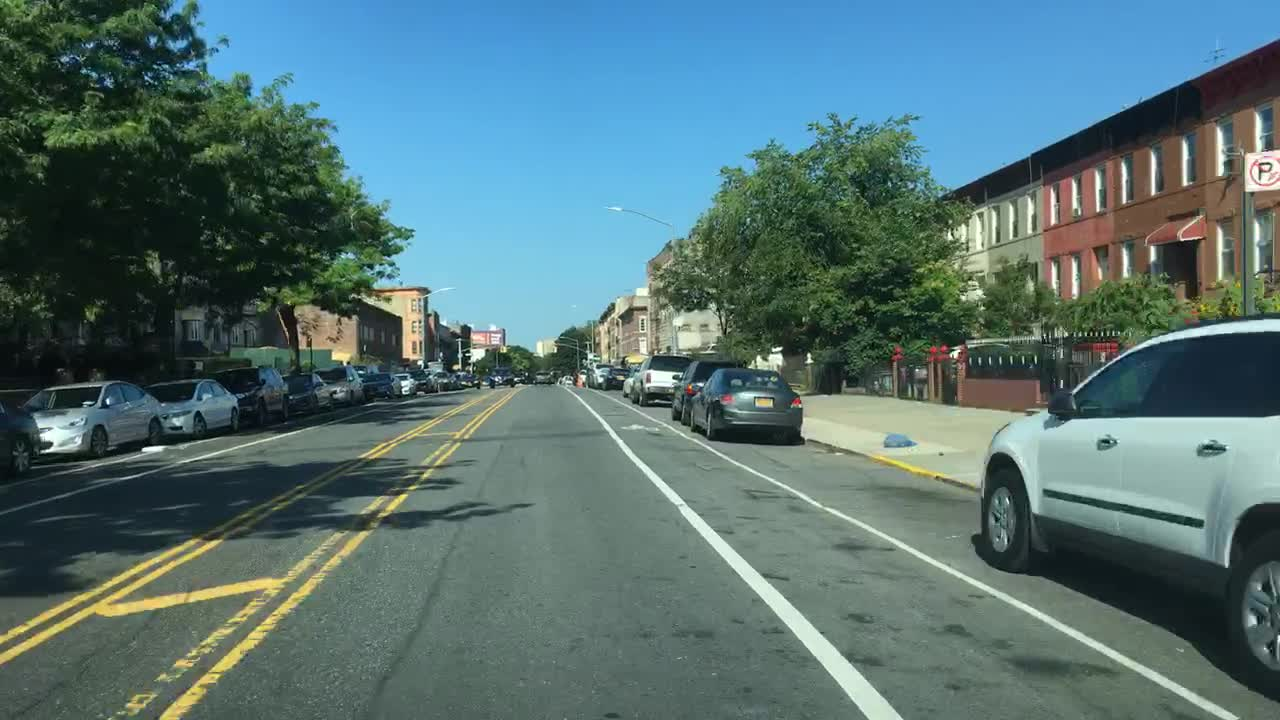car: (980, 312, 1279, 687), (21, 377, 163, 460), (690, 366, 804, 442), (143, 376, 241, 438), (205, 364, 288, 425), (668, 357, 744, 421), (0, 389, 42, 477), (632, 352, 693, 406), (280, 369, 329, 413), (308, 366, 362, 404), (362, 371, 398, 398), (588, 361, 610, 388), (602, 367, 629, 388), (393, 372, 416, 394), (491, 367, 514, 388), (430, 371, 452, 391), (413, 367, 430, 391), (622, 367, 637, 394), (534, 369, 551, 388), (464, 374, 482, 388), (575, 369, 587, 389), (556, 374, 572, 388), (452, 371, 465, 388), (514, 371, 528, 384), (479, 374, 489, 389)
traffic sign: (1245, 151, 1279, 190)
